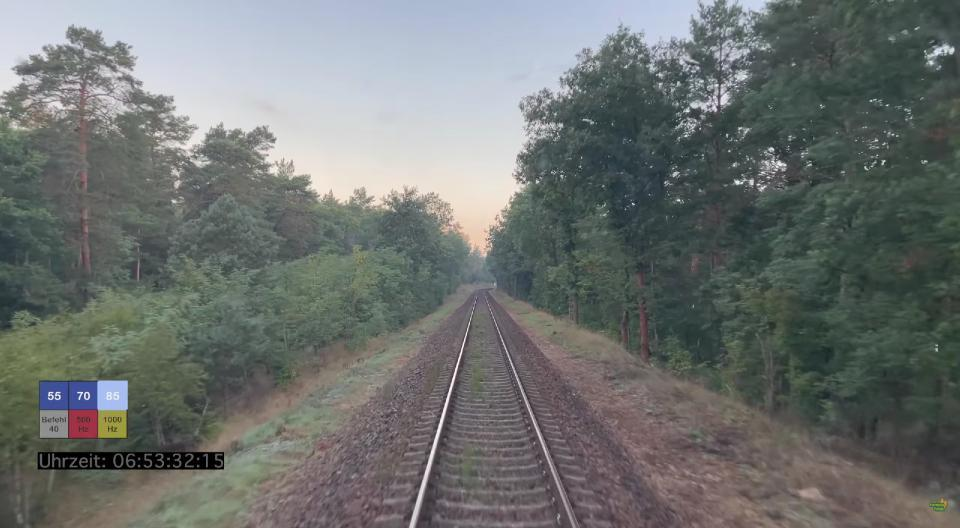Plant: (458, 442, 499, 511), (468, 363, 489, 400), (469, 309, 490, 339), (465, 345, 483, 359)
